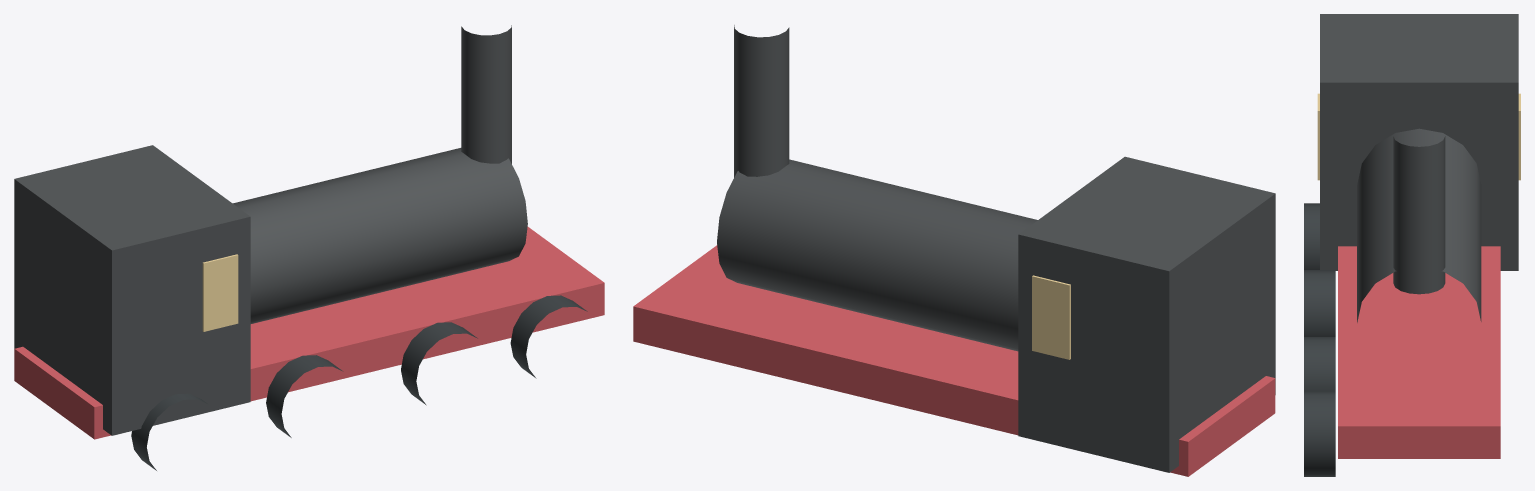
3 views of the same model, side by side, from view 1: azimuth 30°, elevation 25°; view 2: azimuth 150°, elevation 25°; view 3: azimuth 270°, elevation 25° (orthographic). The views are drawn at different scales.
Visible parts, largest first — view 1: cab, boiler, red_chassis, smokestack, cab_windows, wheel_3, wheel_1, wheel_2, wheel_0; view 2: cab, boiler, red_chassis, smokestack, cab_windows; view 3: cab, red_chassis, boiler, smokestack, wheel_3, wheel_1, wheel_2, wheel_0, cab_windows.
Boxes of the visible parts, x1,y1,x2,y2 form: cab: (14, 145, 250, 435); boiler: (233, 148, 527, 323); red_chassis: (14, 227, 604, 439); smokestack: (461, 25, 511, 163); cab_windows: (202, 254, 238, 331); wheel_3: (510, 295, 587, 378); wheel_1: (266, 355, 343, 437); wheel_2: (401, 322, 477, 405); wheel_0: (131, 393, 207, 470); cab: (1018, 156, 1275, 472); boiler: (717, 159, 1037, 351); red_chassis: (633, 245, 1275, 476); smokestack: (734, 25, 789, 177); cab_windows: (1032, 275, 1070, 359); cab: (1320, 14, 1518, 270); red_chassis: (1338, 246, 1500, 458); boiler: (1357, 128, 1481, 322); smokestack: (1393, 136, 1445, 294); wheel_3: (1304, 391, 1335, 476); wheel_1: (1304, 270, 1335, 336); wheel_2: (1304, 337, 1335, 391); wheel_0: (1304, 203, 1319, 269); cab_windows: (1317, 93, 1520, 180).
Size of the model in its own units: 2.65 by 1.6 by 0.96.
